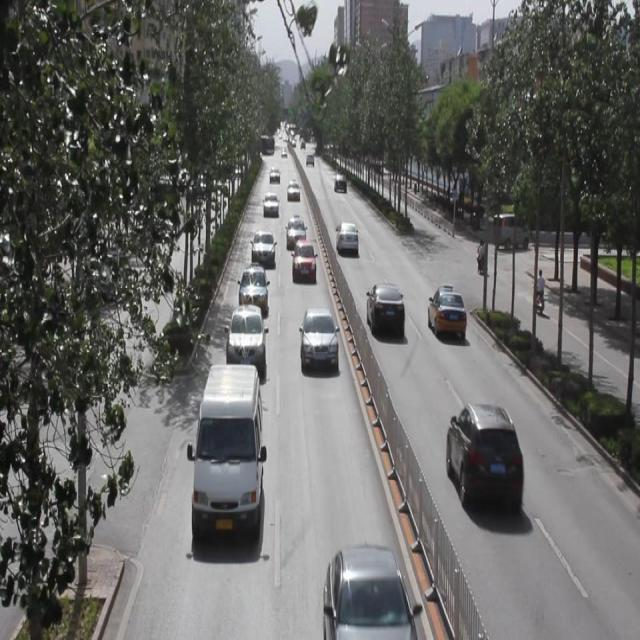car: (195, 366, 278, 556), (446, 403, 530, 519), (323, 543, 417, 640), (302, 306, 345, 374), (227, 306, 269, 368), (367, 281, 407, 344), (430, 282, 471, 341), (286, 236, 322, 280), (241, 266, 271, 304), (335, 219, 364, 254), (250, 229, 276, 265), (328, 172, 356, 201), (264, 188, 282, 223), (288, 213, 306, 246), (286, 180, 305, 208)
